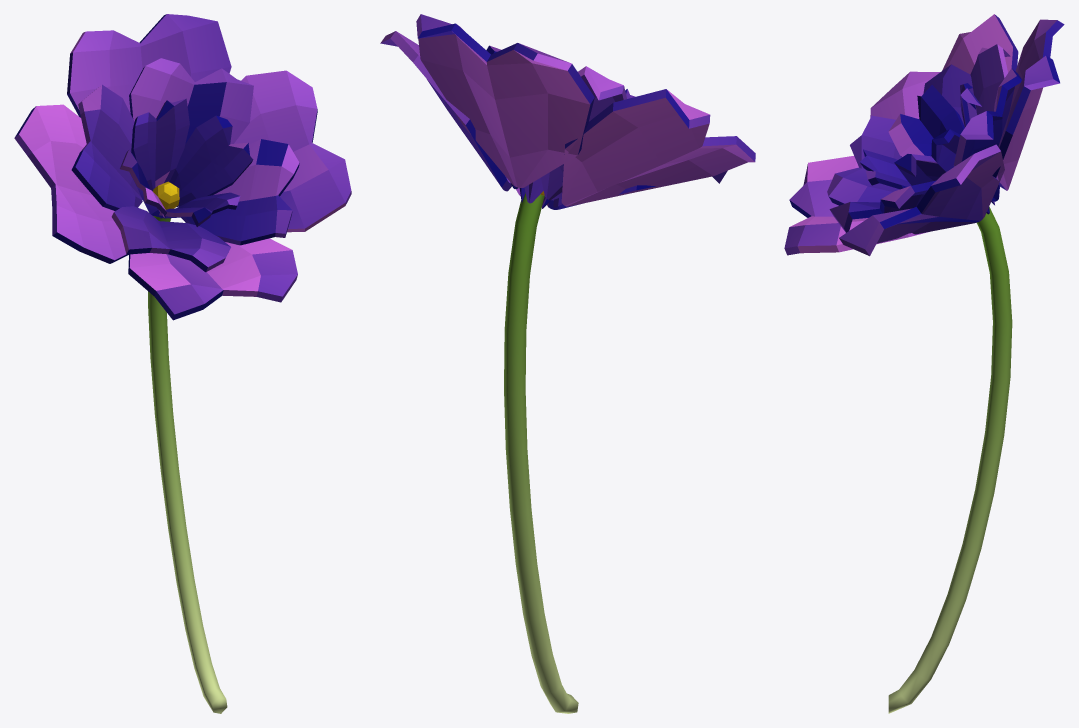
Rendered from Flower02B.fbx.
3 views of the same model, side by side, from view 1: azimuth 30°, elevation 25°; view 2: azimuth 150°, elevation 25°; view 3: azimuth 270°, elevation 25° (orthographic). The views are drawn at different scales.
Parts seen in each view (by area): view 1: Flower02B_LOD0; view 2: Flower02B_LOD0; view 3: Flower02B_LOD0.
Part boxes in pixels (bbox=[...]): Flower02B_LOD0: bbox=[14, 14, 351, 713]; Flower02B_LOD0: bbox=[380, 14, 755, 713]; Flower02B_LOD0: bbox=[784, 14, 1064, 713].
Size of what is drawn, in the model's own units: 49.21 by 104 by 39.3.
